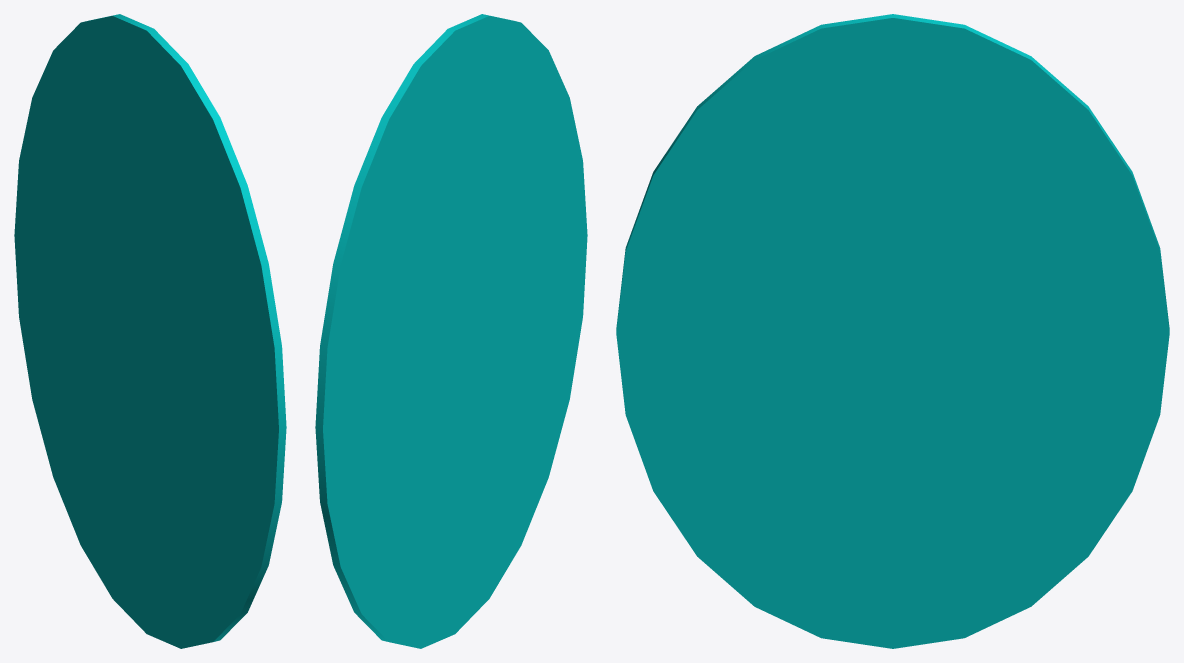
The model's file is original-29.obj.
3 views of the same model, side by side, from view 1: azimuth 30°, elevation 25°; view 2: azimuth 150°, elevation 25°; view 3: azimuth 270°, elevation 25° (orthographic). The views are drawn at different scales.
Parts seen in each view (by area): view 1: Component_11_3/Component_11_1_2/mesh5/mesh5-geometry#mesh5-geome; view 2: Component_11_3/Component_11_1_2/mesh5/mesh5-geometry#mesh5-geome; view 3: Component_11_3/Component_11_1_2/mesh5/mesh5-geometry#mesh5-geome.
Boxes of the visible parts, x1,y1,x2,y2 form: Component_11_3/Component_11_1_2/mesh5/mesh5-geometry#mesh5-geome: (14,14,286,648); Component_11_3/Component_11_1_2/mesh5/mesh5-geometry#mesh5-geome: (315,14,587,648); Component_11_3/Component_11_1_2/mesh5/mesh5-geometry#mesh5-geome: (616,14,1169,648).
Bounding box in the file's own units: 5.5e-05 × 0.00423 × 0.00336.
